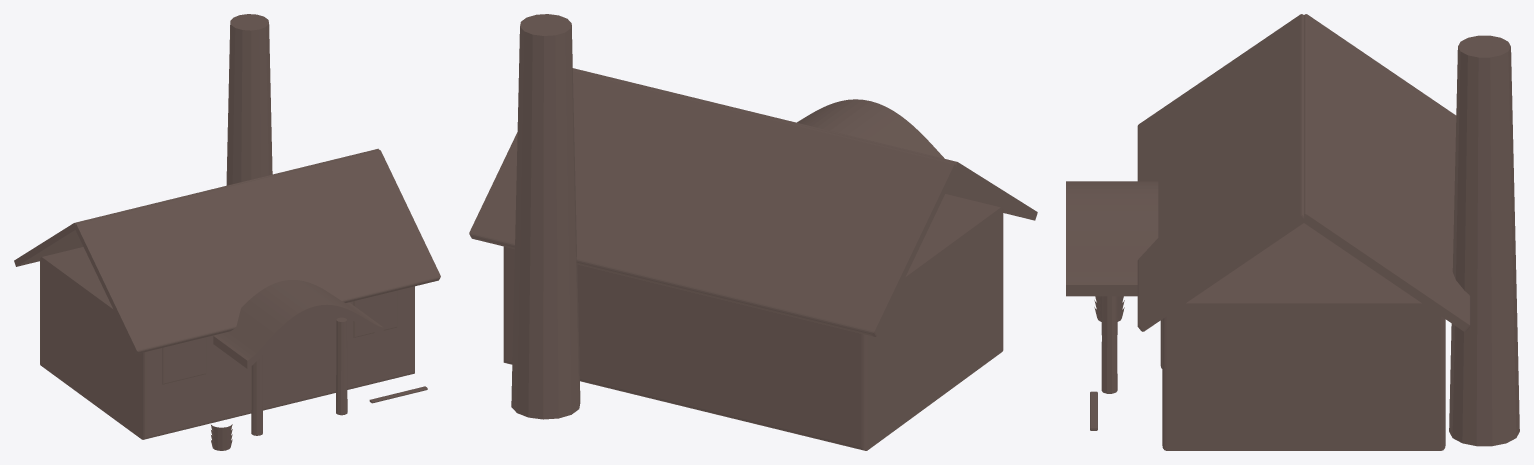
Rendered from sento.ol.glb.
The picture shows the model from 3 angles, left to right: view 1: azimuth 30°, elevation 25°; view 2: azimuth 150°, elevation 25°; view 3: azimuth 270°, elevation 25°; orthographic projection. The views are drawn at different scales.
Size of the model in its own units: 13.67 by 12.24 by 13.07.
